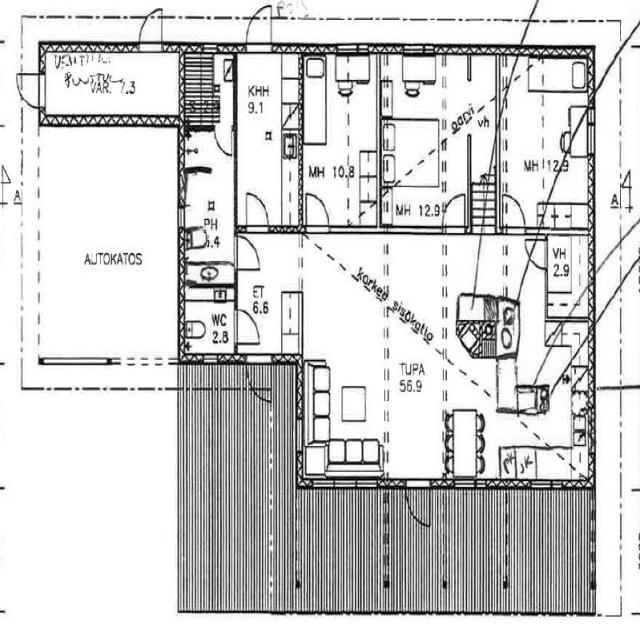door: (181, 163, 237, 280), (243, 2, 275, 54), (242, 188, 272, 235), (303, 190, 332, 233), (138, 6, 166, 50), (233, 306, 262, 348), (441, 190, 469, 233), (16, 70, 45, 110), (500, 193, 527, 233), (235, 234, 262, 273), (524, 234, 549, 274), (212, 124, 235, 158), (0, 160, 11, 190)
window: (585, 114, 598, 159)
zone: (499, 75, 592, 222), (301, 49, 380, 221), (464, 377, 594, 477), (235, 50, 300, 230), (42, 53, 180, 122), (380, 116, 467, 220), (235, 227, 302, 357), (181, 165, 236, 280), (182, 46, 234, 128), (181, 285, 237, 360), (546, 232, 592, 320), (447, 411, 487, 480), (474, 235, 515, 300)
